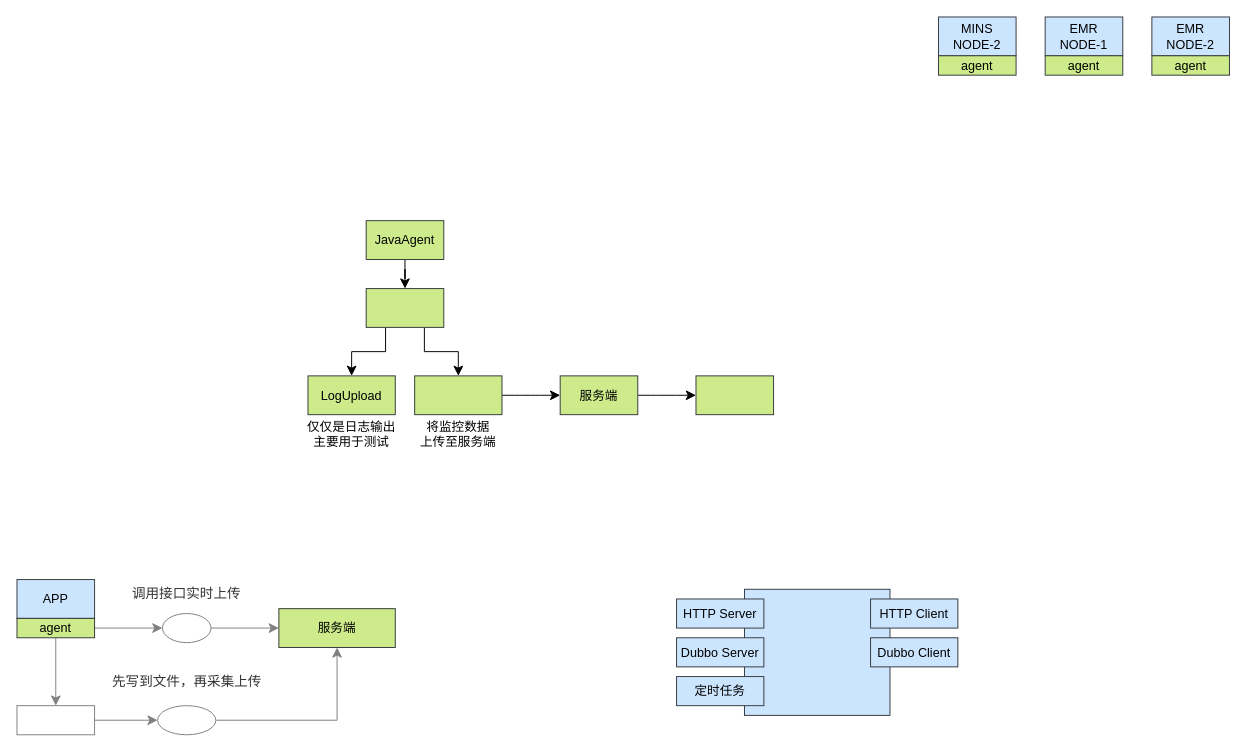
The diagram is 1246 pixels wide and 752 high, and some of its shapes have lost their labels. The centre of each missing label's shape, as x and y in pixels:
Filebeat: point (186, 720)
HttpUpload: point (458, 395)
RPC: point (186, 628)
trace.log: point (55, 720)
Upload: point (404, 307)
前端: point (734, 395)
